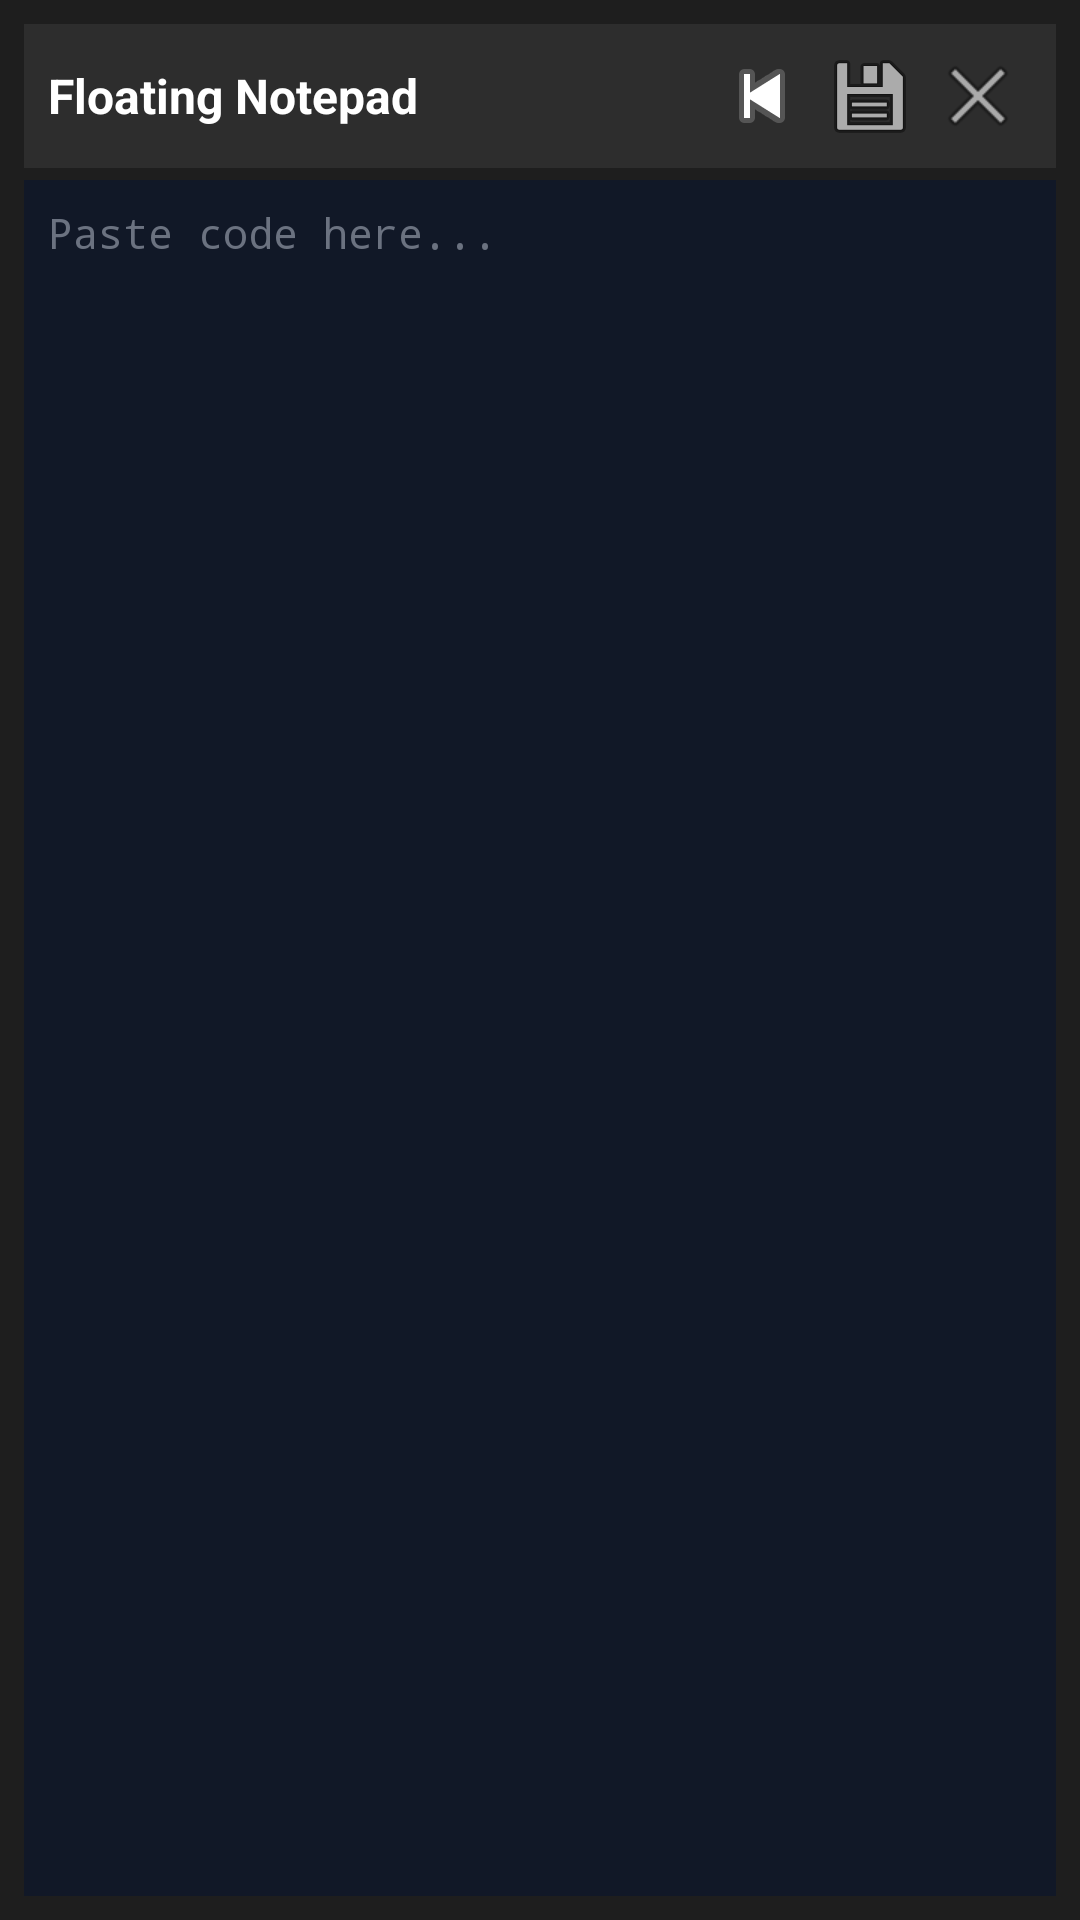

Icons on this 1080×1920 Android screen, each with its box as (x1,y1,x2,y2):
Close: (951,69,1005,123)
Save: (836,62,904,131)
